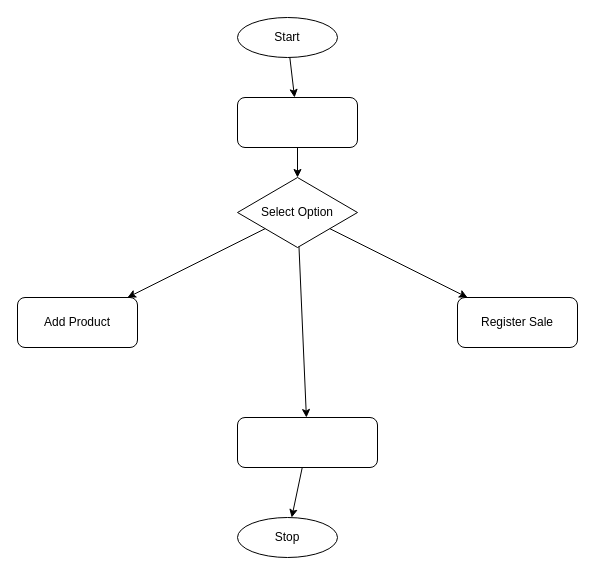
Image size: 595x575. Some labels were removed from this diagram. Here are the shapes that lost their labels. From the top down, the centre of each, then its label:
At point 297,122: "Display Menu".
At point 307,442: "Generate Reports".
